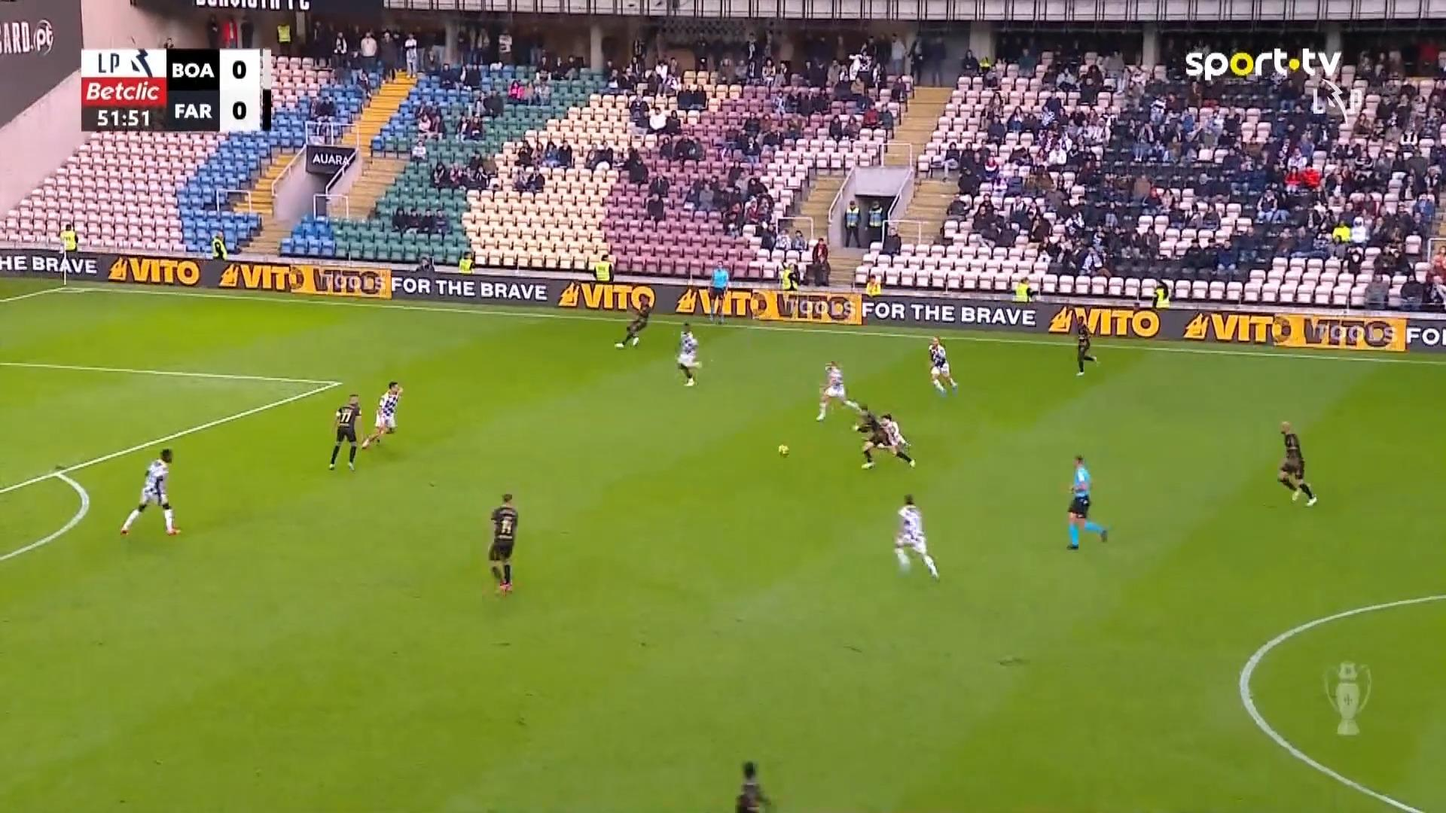ball: (777, 443, 789, 456)
player: (119, 447, 181, 536), (892, 493, 939, 580), (1276, 419, 1317, 507), (487, 492, 518, 594), (360, 380, 403, 450), (327, 392, 362, 470), (850, 401, 886, 469), (815, 360, 852, 421), (877, 412, 916, 467), (613, 297, 652, 349), (927, 336, 957, 395), (675, 321, 701, 386), (1072, 315, 1098, 376)
referee: (1065, 454, 1108, 550), (707, 260, 729, 324)
